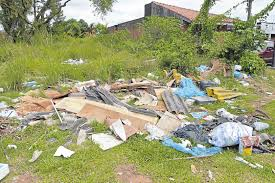rubble: (35, 72, 272, 155)
